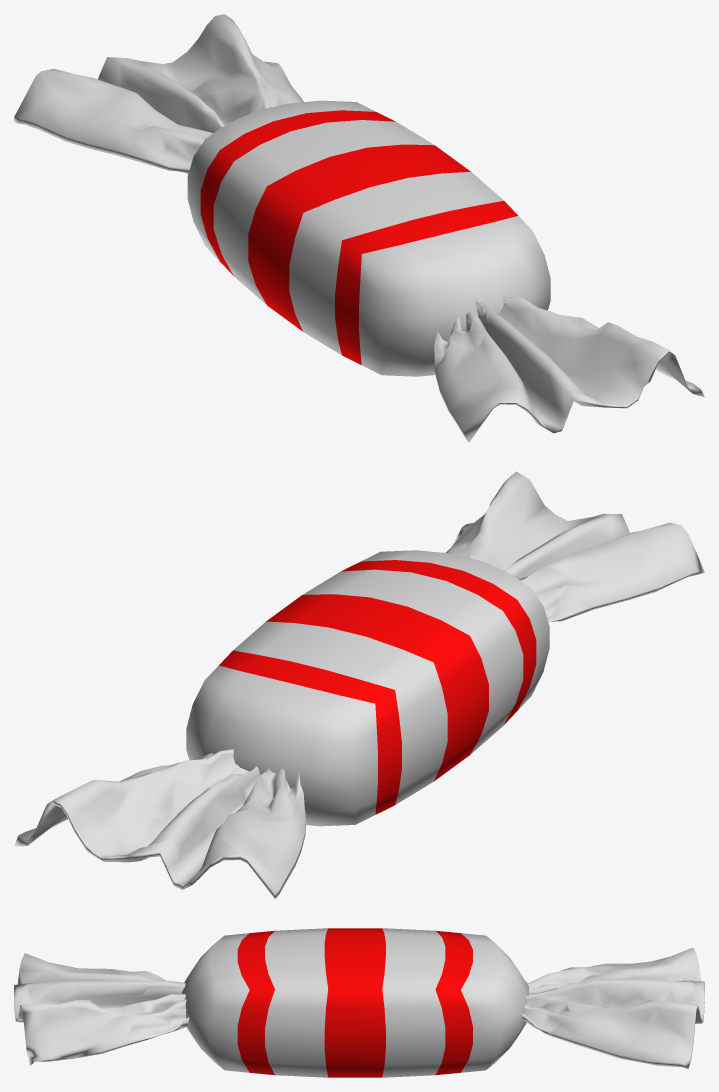
Rendered from candy1.fbx.
The picture shows the model from 3 angles, top to bottom: view 1: azimuth 30°, elevation 25°; view 2: azimuth 150°, elevation 25°; view 3: azimuth 270°, elevation 25°; orthographic projection. The views are drawn at different scales.
Parts seen in each view (by area): view 1: candy1; view 2: candy1; view 3: candy1.
Boxes of the visible parts, x1=… form: candy1: x1=14, y1=14, x2=704, y2=442; candy1: x1=14, y1=471, x2=704, y2=899; candy1: x1=14, y1=928, x2=704, y2=1077.
Bounding box in the file's own units: 108 × 56.16 × 332.
